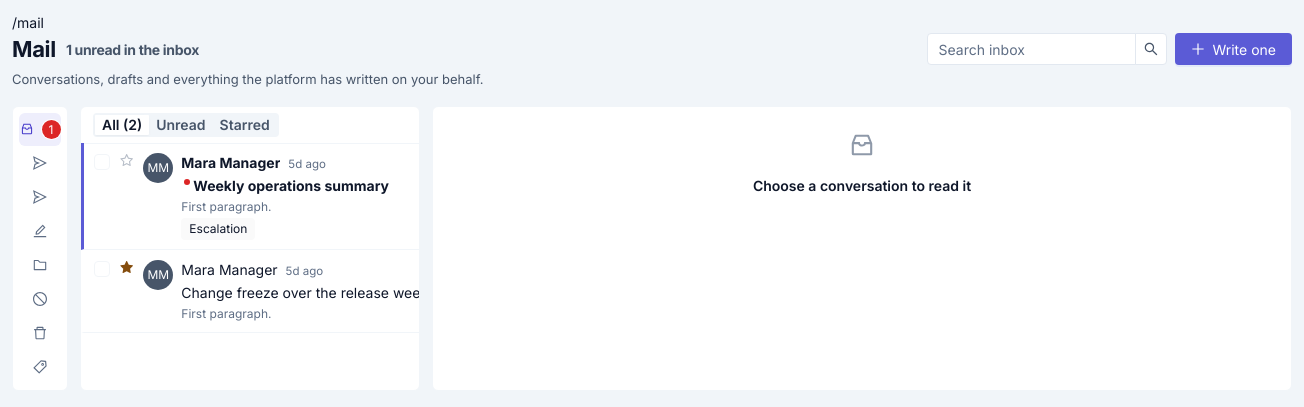
it: the mailbox › narrows to unread, in the address
Check: the element with test id "thread-list" is shown, box top-left (81, 142), bottom-right (419, 333)
Click the text titled "Unread".
click(181, 124)  # box top-left (156, 116), bottom-right (206, 132)
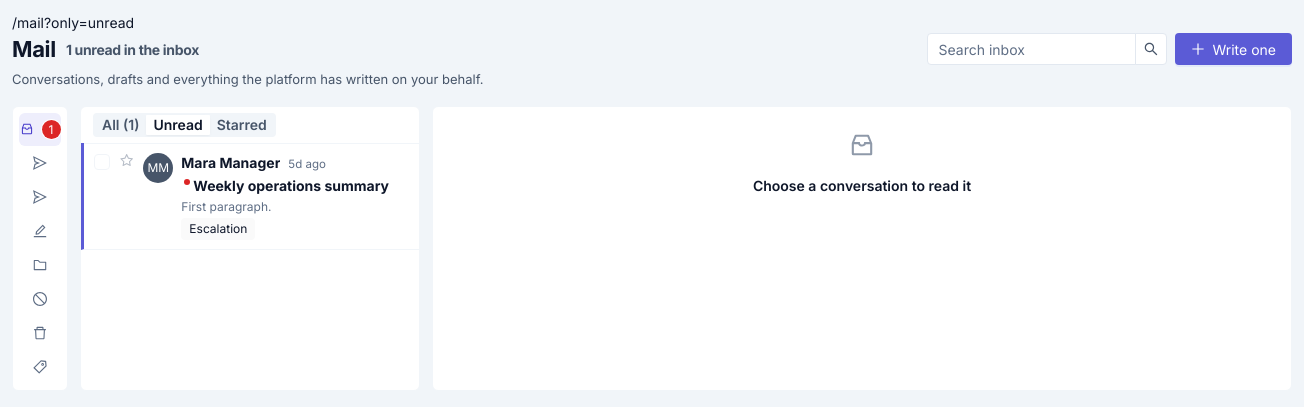
Check: the text with test id "address" shows "only=unread", box top-left (12, 14), bottom-right (134, 31)
Check: the button "Change freeze over the release weekend" is gone
